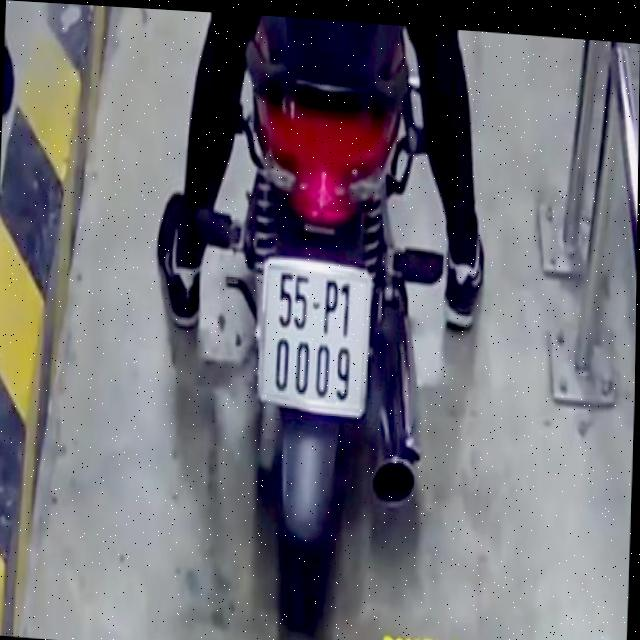motorcycle: (187, 12, 444, 640)
plate: (251, 250, 379, 426)
